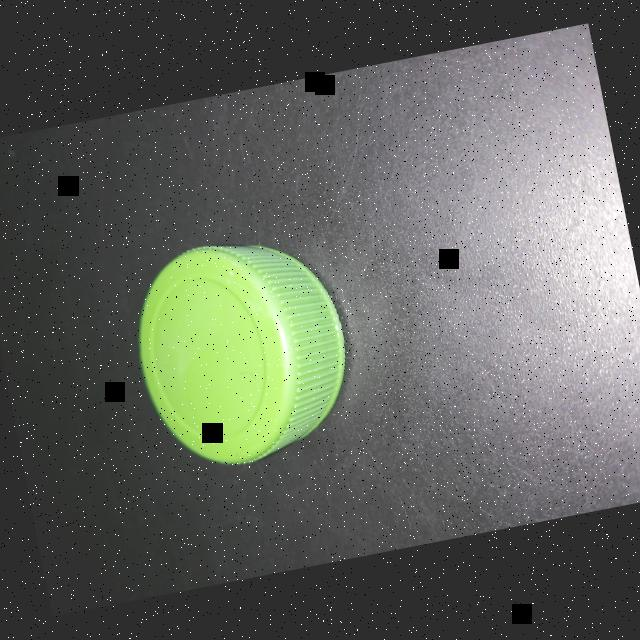plastic_bottle_cap: (117, 221, 365, 484)
